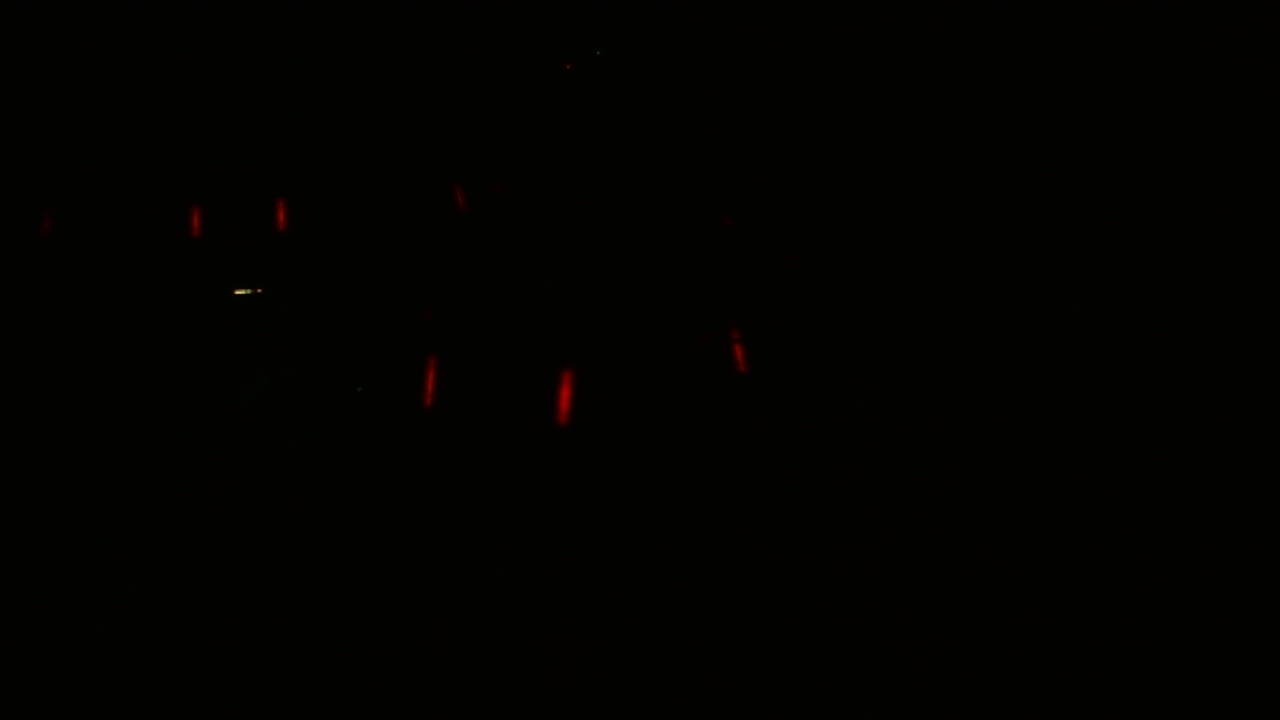pair1: (420, 347, 577, 431), (183, 190, 291, 244)
